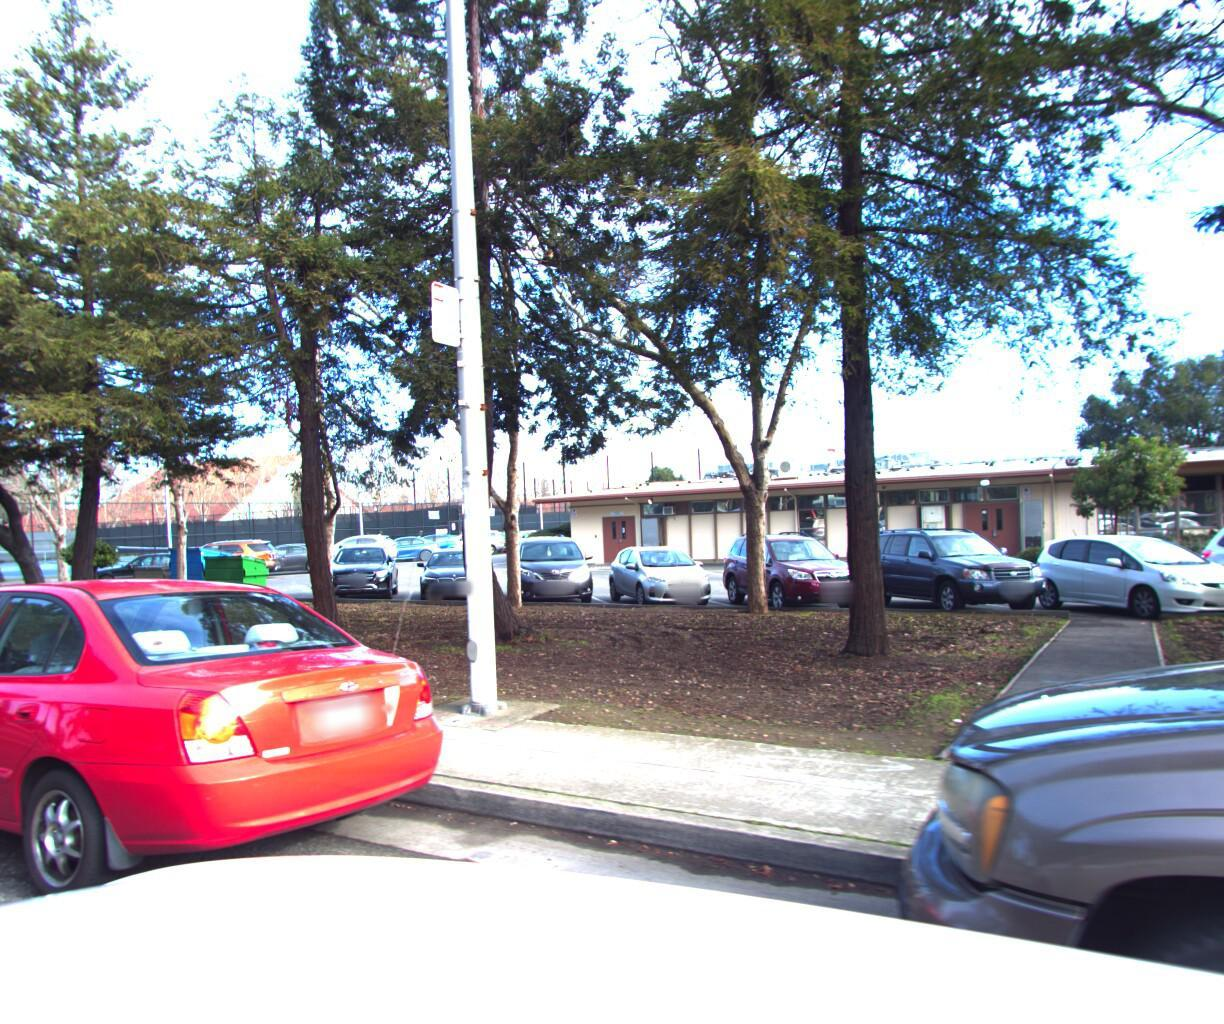car: (0, 541, 502, 1019)
